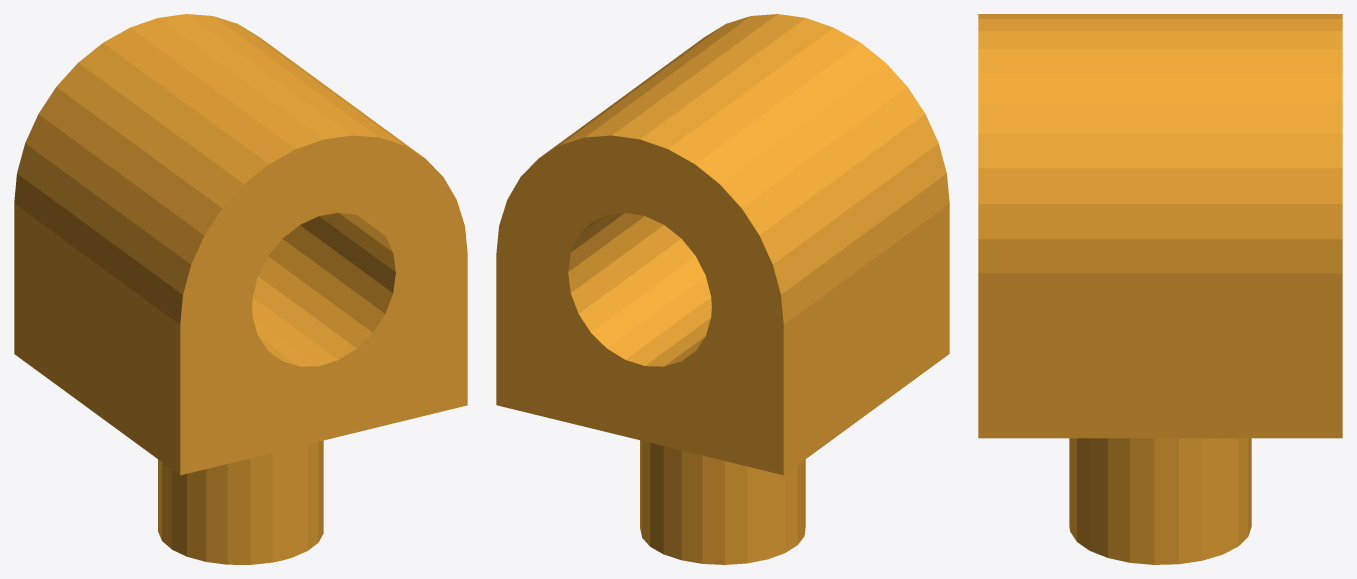
3 renders of one model, left to right at view 1: azimuth 30°, elevation 25°; view 2: azimuth 150°, elevation 25°; view 3: azimuth 270°, elevation 25°, orthographic. The views are drawn at different scales.
Visible parts, largest first — view 1: link_5; view 2: link_5; view 3: link_5.
Boxes of the visible parts, x1=… form: link_5: x1=14, y1=14, x2=467, y2=564; link_5: x1=496, y1=14, x2=949, y2=564; link_5: x1=978, y1=14, x2=1342, y2=564.
Bounding box in the file's own units: 0.06 × 0.06 × 0.09.
